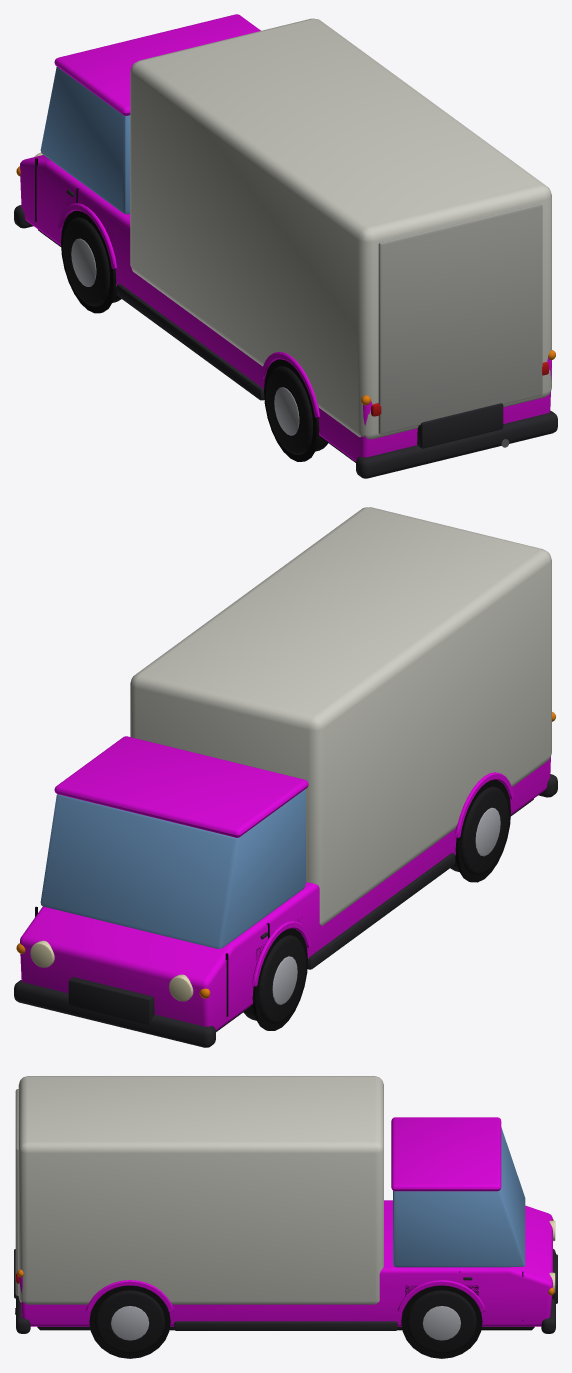
Rendered from HaulwellBoxTruck_Player.fbx.
3 renders of one model, top to bottom at view 1: azimuth 30°, elevation 25°; view 2: azimuth 150°, elevation 25°; view 3: azimuth 270°, elevation 25°, orthographic. The views are drawn at different scales.
Visible parts, largest first — view 1: HaulwellBoxTruck_Player; view 2: HaulwellBoxTruck_Player; view 3: HaulwellBoxTruck_Player.
Boxes of the visible parts, box(x1,y1,x2,y2) form: HaulwellBoxTruck_Player: box(14, 14, 557, 478); HaulwellBoxTruck_Player: box(14, 507, 557, 1047); HaulwellBoxTruck_Player: box(14, 1076, 557, 1358).
Bounding box in the file's own units: 2.42 × 3.17 × 7.33.
